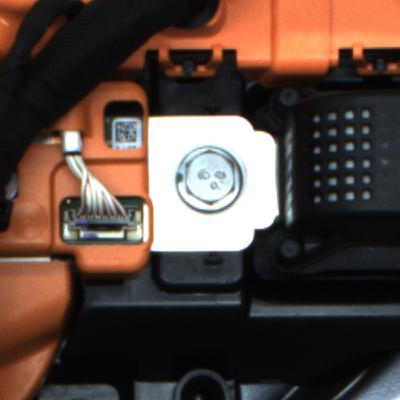nut_b: (175, 137, 252, 221)
